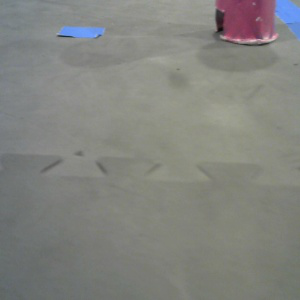right: (215, 1, 279, 45)
